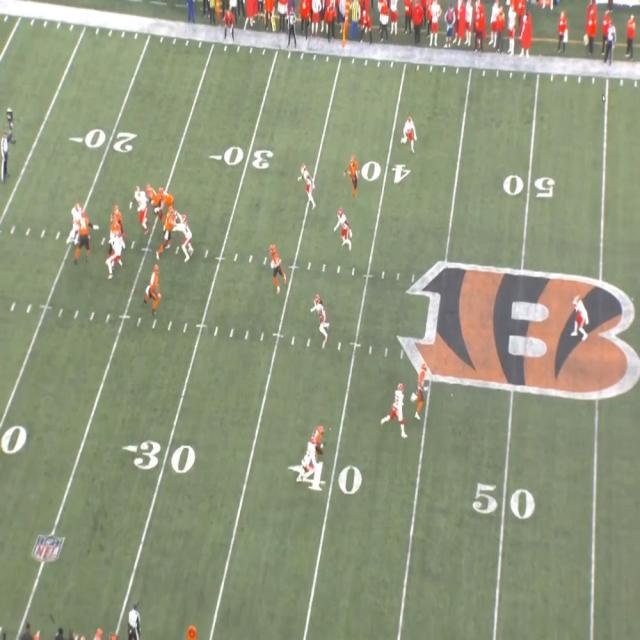db: (572, 295, 591, 337), (389, 386, 405, 432), (303, 438, 315, 486), (301, 169, 315, 206), (404, 117, 416, 149)
lb: (314, 295, 327, 338), (339, 211, 353, 250)
qb: (112, 206, 122, 238)
skill: (308, 427, 327, 484), (411, 366, 429, 414), (270, 242, 285, 288), (348, 156, 361, 192), (150, 264, 160, 302)
